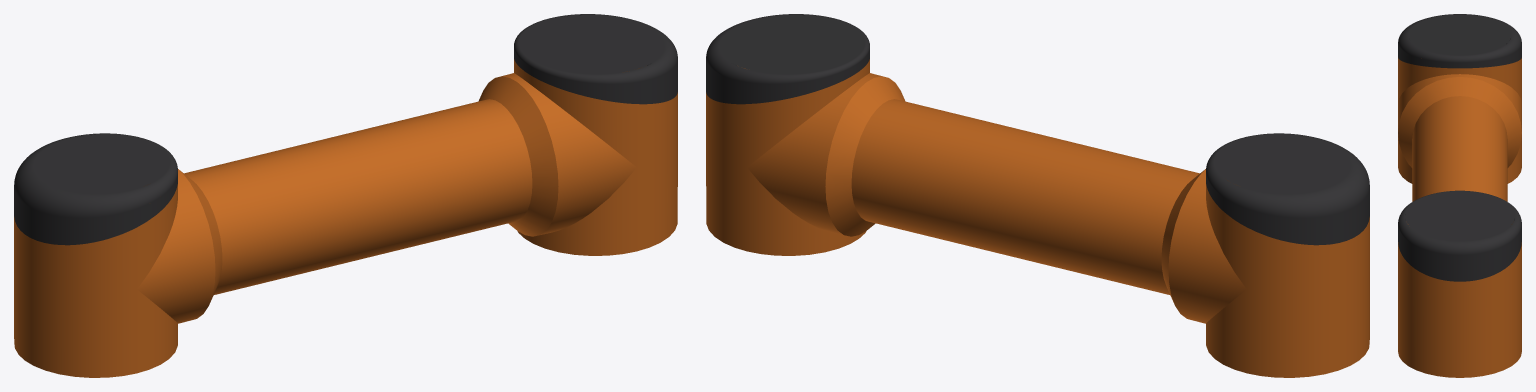
The picture shows the model from 3 angles, left to right: view 1: azimuth 30°, elevation 25°; view 2: azimuth 150°, elevation 25°; view 3: azimuth 270°, elevation 25°; orthographic projection. The views are drawn at different scales.
Parts seen in each view (by area): view 1: NONE-DC_Shell_ncl1_4, NONE-DC_Shell_ncl1_2, NONE-DC_Shell_ncl1_3, NONE-DC_Shell, NONE-DC_Shell_ncl1_1; view 2: NONE-DC_Shell_ncl1_4, NONE-DC_Shell_ncl1_2, NONE-DC_Shell_ncl1_3, NONE-DC_Shell, NONE-DC_Shell_ncl1_1; view 3: NONE-DC_Shell_ncl1_3, NONE-DC_Shell_ncl1_4, NONE-DC_Shell_ncl1_1, NONE-DC_Shell, NONE-DC_Shell_ncl1_2.
Part boxes in pixels (x1=…): NONE-DC_Shell_ncl1_4: x1=178, y1=76, x2=558, y2=302; NONE-DC_Shell_ncl1_2: x1=14, y1=169, x2=215, y2=377; NONE-DC_Shell_ncl1_3: x1=498, y1=59, x2=677, y2=255; NONE-DC_Shell: x1=14, y1=133, x2=177, y2=245; NONE-DC_Shell_ncl1_1: x1=514, y1=14, x2=677, y2=104; NONE-DC_Shell_ncl1_4: x1=825, y1=76, x2=1227, y2=302; NONE-DC_Shell_ncl1_2: x1=1168, y1=169, x2=1369, y2=377; NONE-DC_Shell_ncl1_3: x1=706, y1=59, x2=885, y2=255; NONE-DC_Shell: x1=1206, y1=133, x2=1369, y2=245; NONE-DC_Shell_ncl1_1: x1=706, y1=14, x2=869, y2=104; NONE-DC_Shell_ncl1_3: x1=1398, y1=224, x2=1521, y2=377; NONE-DC_Shell_ncl1_4: x1=1398, y1=77, x2=1521, y2=201; NONE-DC_Shell_ncl1_1: x1=1398, y1=190, x2=1521, y2=281; NONE-DC_Shell: x1=1398, y1=14, x2=1521, y2=68; NONE-DC_Shell_ncl1_2: x1=1398, y1=58, x2=1521, y2=183.
Size of the model in its own units: 0.524 by 0.116 by 0.1404.
